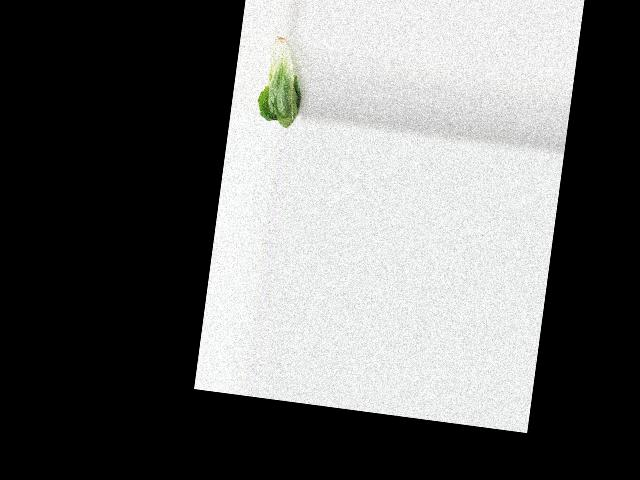lettuce: (253, 30, 311, 130)
